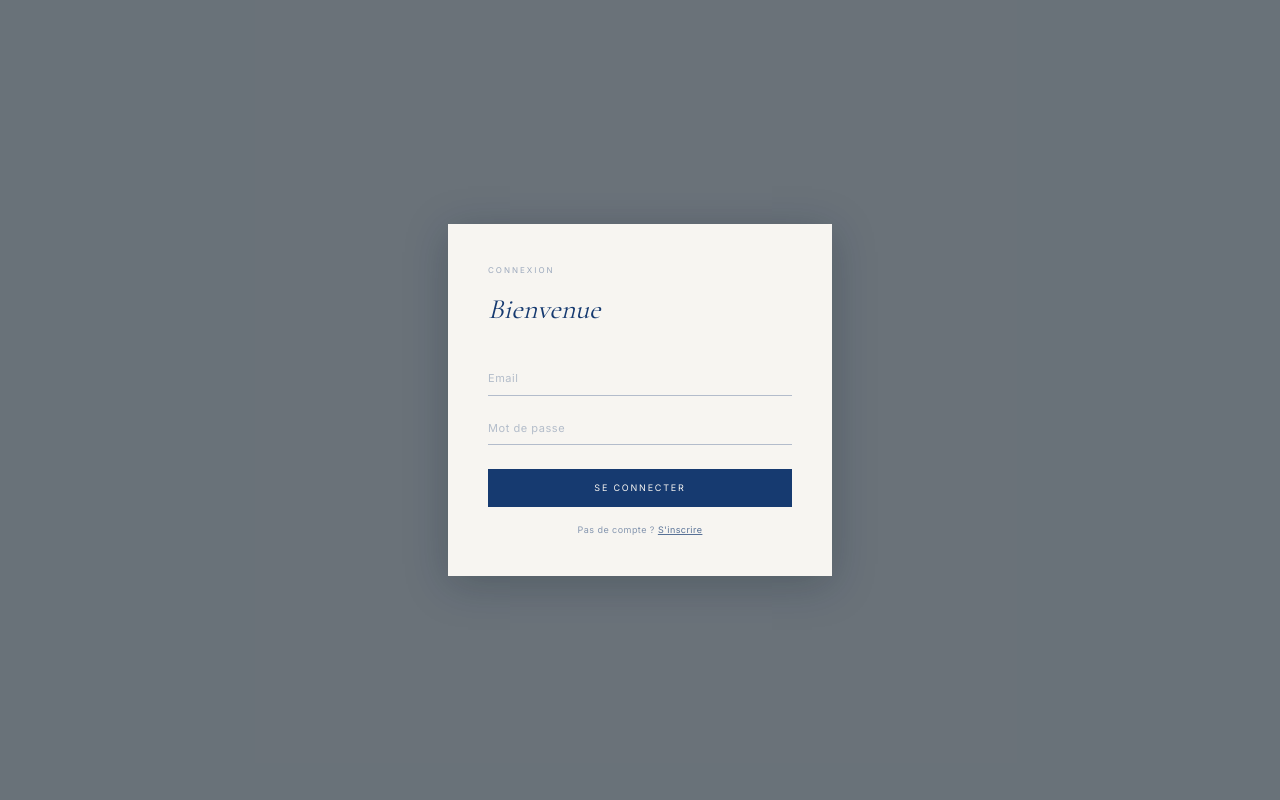
Test case: AuthModal › toggles to signup mode
Click the button "S'inscrire": click(680, 529) [658,522,702,536]
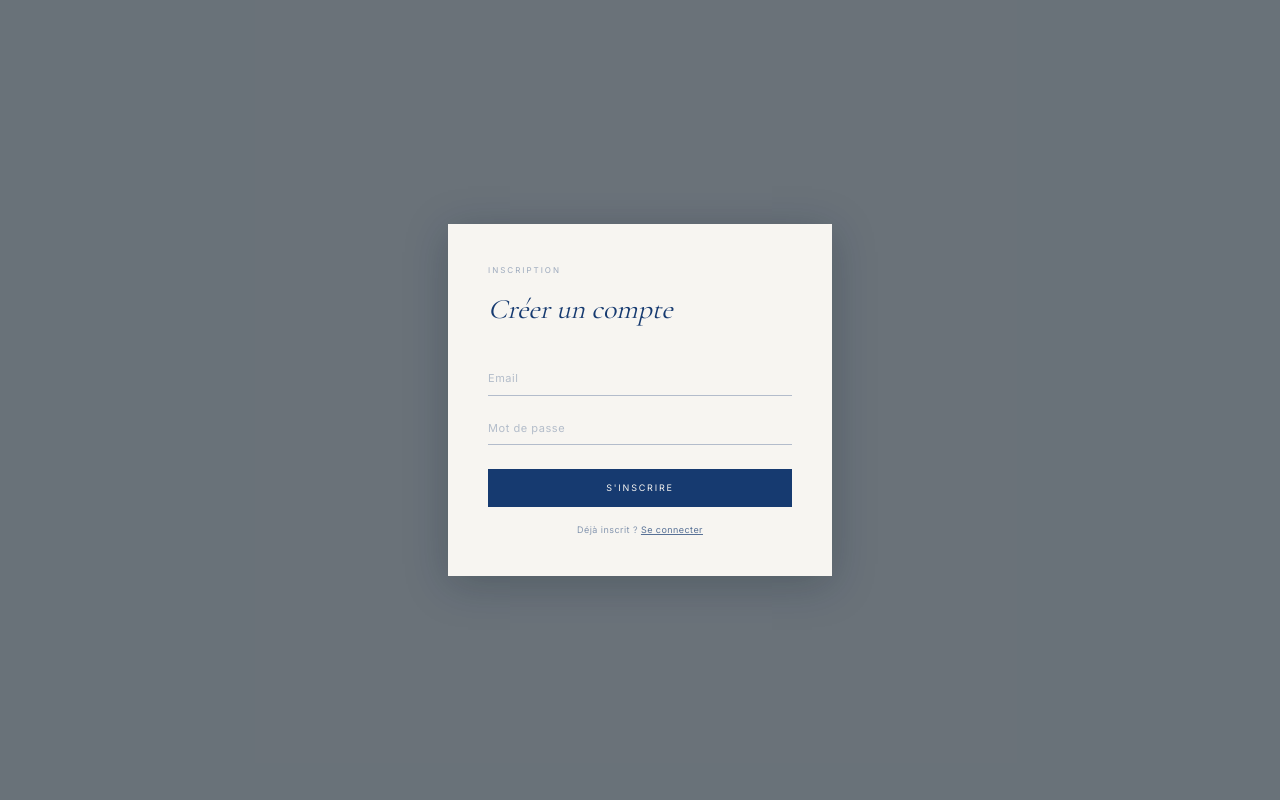
Expected: the button "S'inscrire" is shown, [488,469,792,506]
